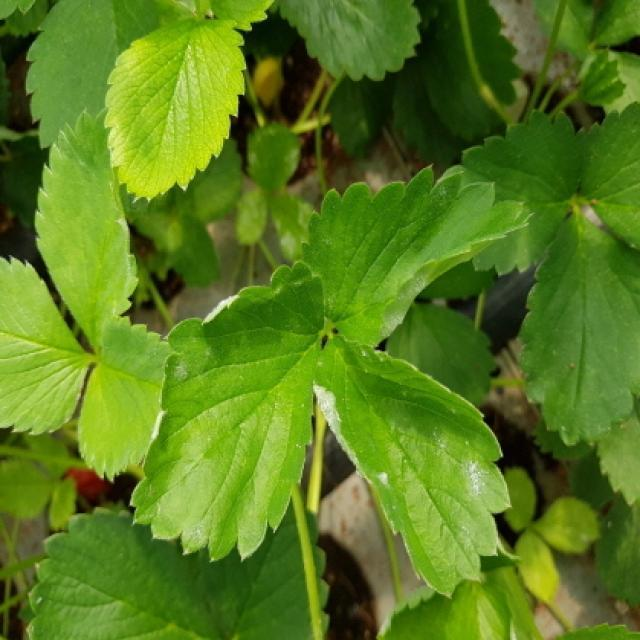powdery_mildew_leaf: (132, 255, 331, 564), (310, 331, 514, 601), (299, 163, 538, 348)
